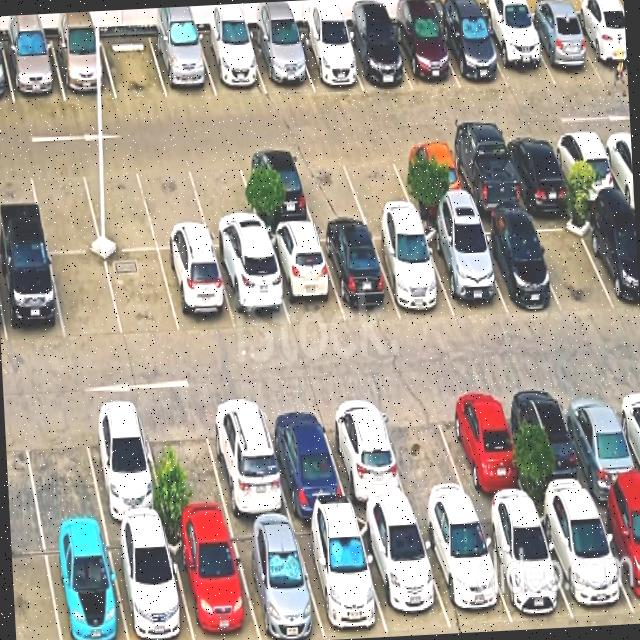empty: (376, 391, 474, 513), (141, 406, 230, 525), (21, 409, 104, 532), (527, 210, 616, 308), (186, 153, 264, 247), (81, 160, 157, 251), (137, 158, 211, 249), (105, 250, 180, 338), (28, 162, 101, 252), (50, 254, 123, 341), (292, 148, 366, 223), (341, 146, 415, 218), (101, 34, 167, 99)
occupied: (535, 500, 637, 626), (293, 517, 388, 640), (476, 507, 574, 624), (416, 510, 512, 628), (229, 522, 325, 640), (438, 387, 530, 508), (356, 516, 451, 633), (202, 398, 291, 521), (166, 524, 259, 640), (319, 395, 412, 510), (261, 400, 350, 517), (508, 384, 593, 504), (81, 407, 166, 526), (107, 526, 193, 640), (558, 383, 640, 499), (43, 529, 127, 640), (421, 222, 508, 318), (472, 219, 559, 314), (317, 225, 400, 322), (265, 229, 345, 329), (369, 224, 454, 317), (159, 249, 236, 334), (213, 247, 290, 330), (580, 208, 640, 311), (0, 250, 65, 344), (445, 138, 524, 215), (238, 150, 314, 228), (594, 495, 640, 617), (480, 17, 556, 90), (393, 142, 470, 213), (501, 133, 574, 207), (524, 17, 602, 85), (550, 130, 621, 202), (391, 19, 460, 91), (437, 19, 508, 88), (342, 24, 412, 91), (197, 33, 266, 97), (51, 36, 116, 102), (150, 33, 216, 98), (294, 30, 363, 91), (2, 39, 65, 104), (249, 32, 314, 94), (572, 13, 628, 82)
